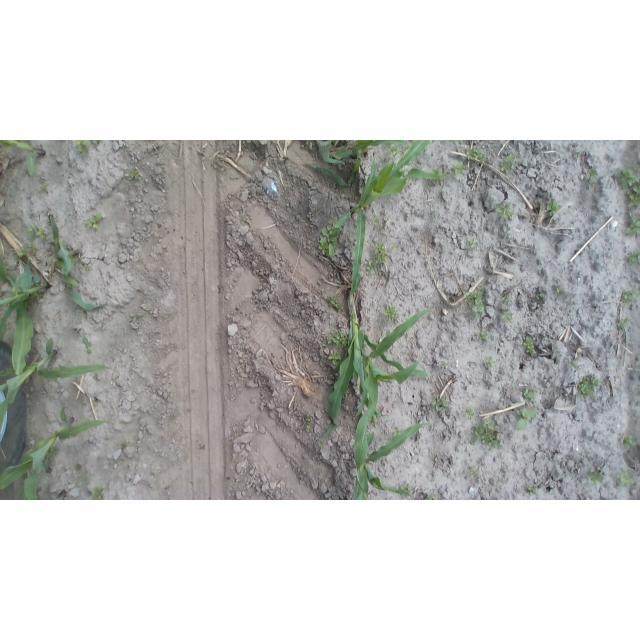Maize: (335, 141, 449, 293), (322, 290, 432, 438), (0, 337, 110, 435), (1, 404, 111, 498), (351, 396, 432, 500), (44, 213, 108, 311), (297, 140, 413, 188), (0, 257, 44, 375), (1, 141, 45, 176)
Weeds: (616, 166, 640, 236), (464, 286, 489, 323), (470, 422, 503, 449), (317, 223, 340, 260), (364, 242, 388, 274), (579, 375, 604, 399), (516, 407, 537, 430), (522, 334, 539, 358), (85, 213, 106, 232), (74, 140, 98, 156), (467, 146, 488, 163), (495, 202, 514, 220), (328, 332, 349, 347), (619, 432, 638, 448), (500, 156, 517, 173), (498, 307, 515, 323), (17, 244, 39, 256), (545, 198, 561, 214), (91, 485, 108, 500), (551, 277, 565, 295), (384, 305, 398, 323), (303, 415, 316, 434), (82, 336, 95, 355), (621, 289, 637, 304), (27, 225, 43, 240), (626, 249, 640, 266), (587, 468, 605, 481), (434, 397, 449, 412), (616, 317, 632, 331), (124, 168, 140, 182), (615, 475, 635, 486), (467, 464, 481, 479), (329, 295, 344, 309), (451, 161, 465, 175), (327, 351, 341, 365), (523, 387, 537, 400), (481, 356, 496, 368), (385, 145, 402, 155), (535, 289, 547, 303), (525, 482, 538, 494), (475, 330, 487, 342), (502, 295, 513, 306), (469, 238, 479, 250), (465, 407, 475, 418), (371, 216, 380, 225)
